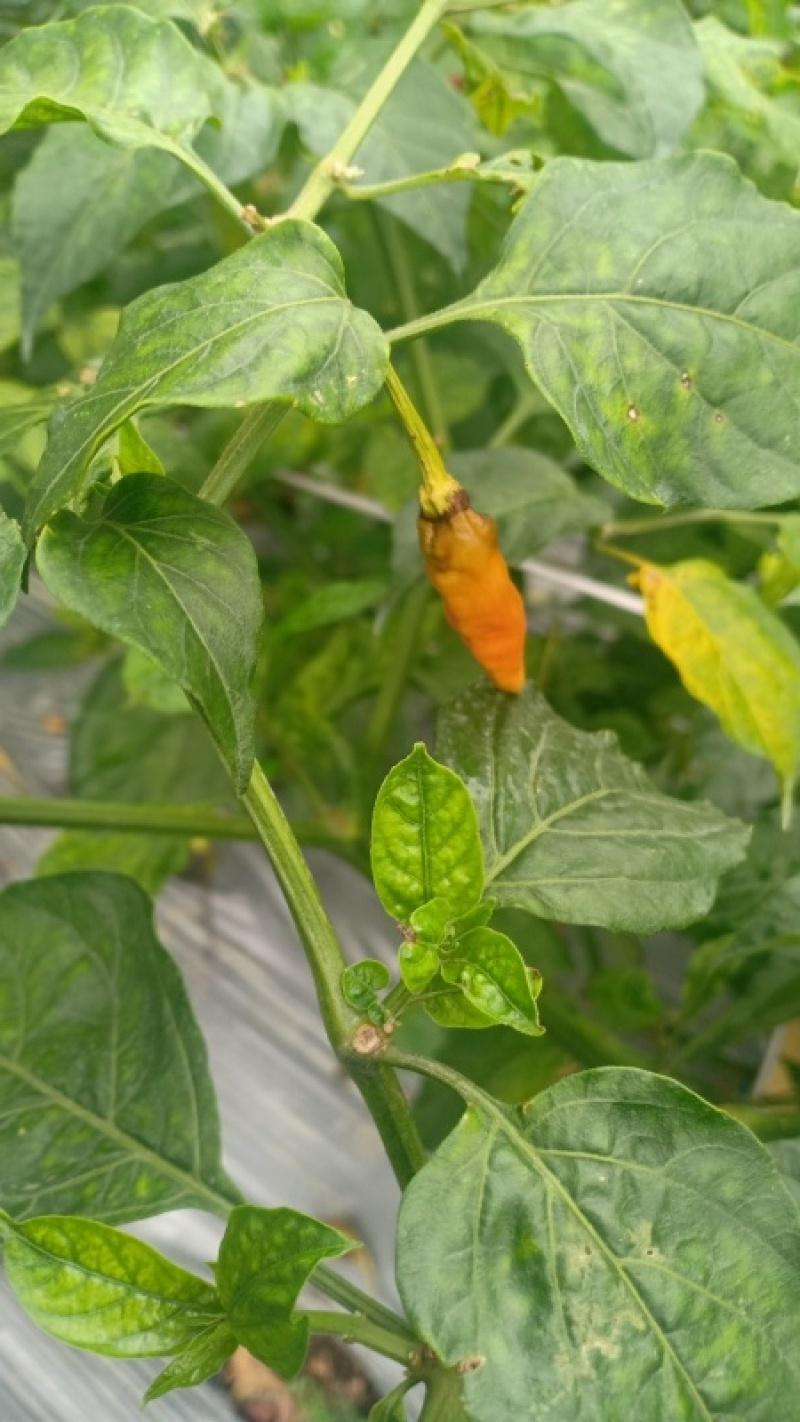lalat_buah: (424, 512, 539, 698)
